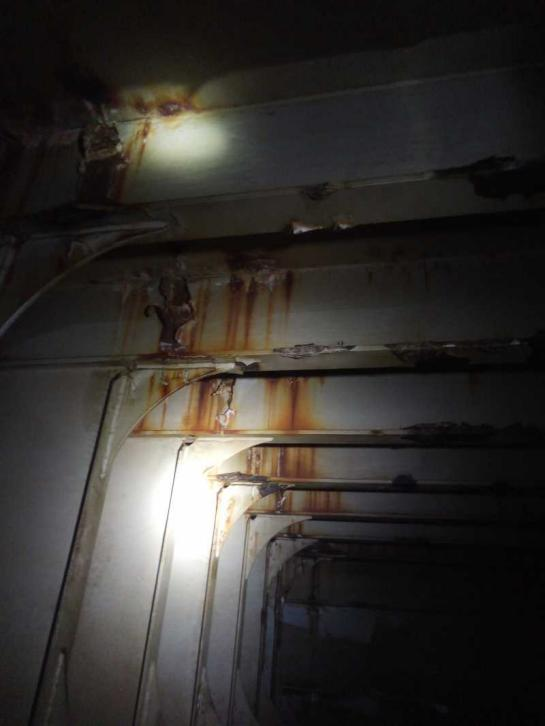corrosion: (107, 273, 197, 355), (204, 268, 297, 347), (113, 129, 170, 192), (120, 92, 224, 126), (182, 382, 241, 437), (238, 441, 326, 475), (261, 478, 346, 512), (269, 384, 330, 431), (136, 365, 178, 429)
